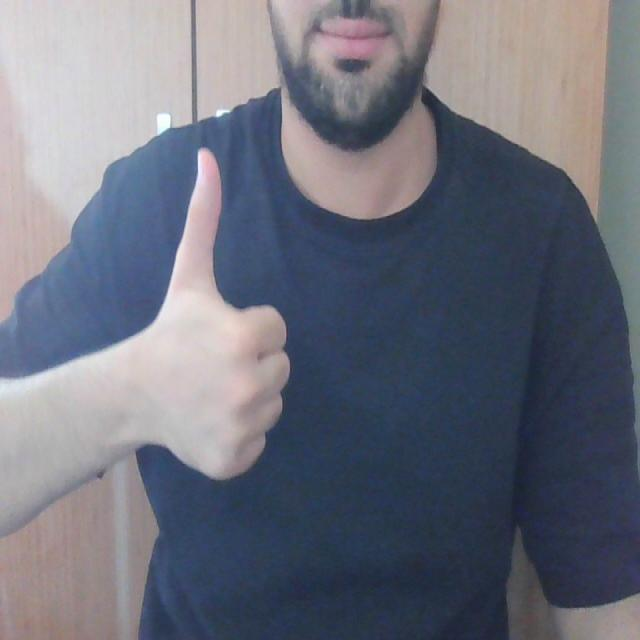Tamam: (140, 143, 298, 484)
